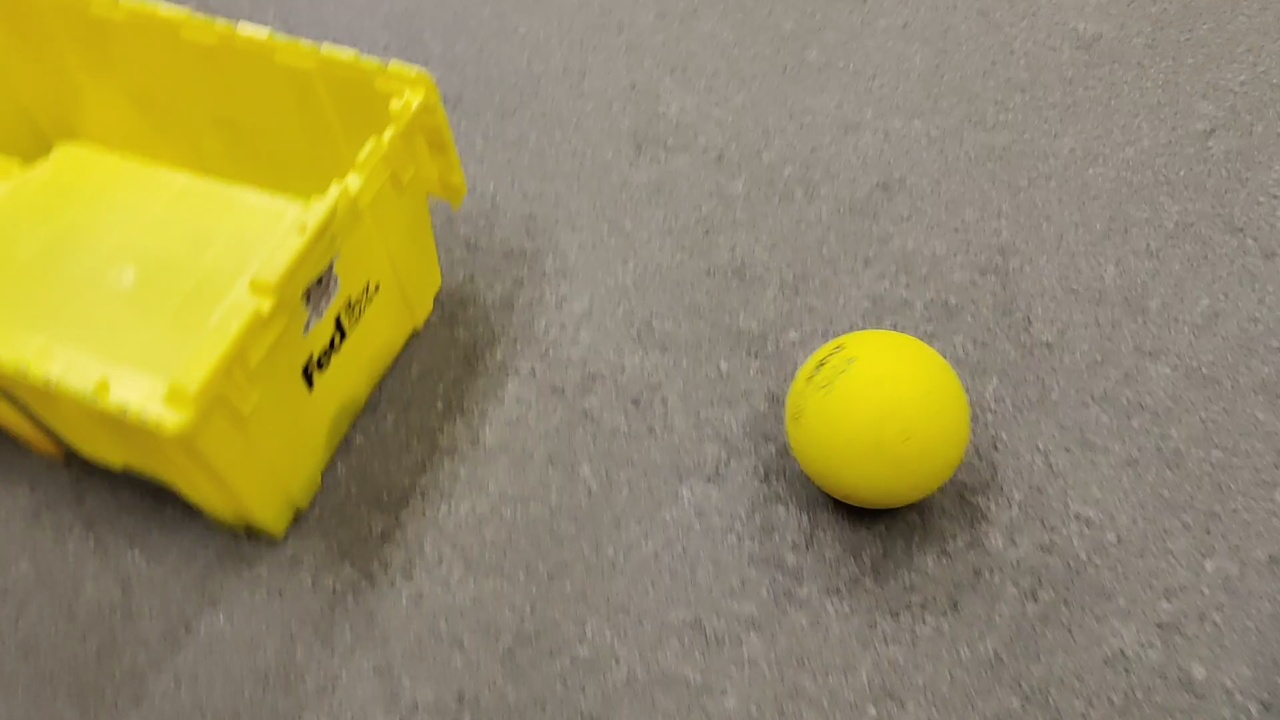Ball: (790, 330, 973, 512)
